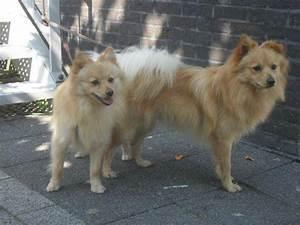dog: (111, 32, 289, 192), (44, 46, 130, 193)
